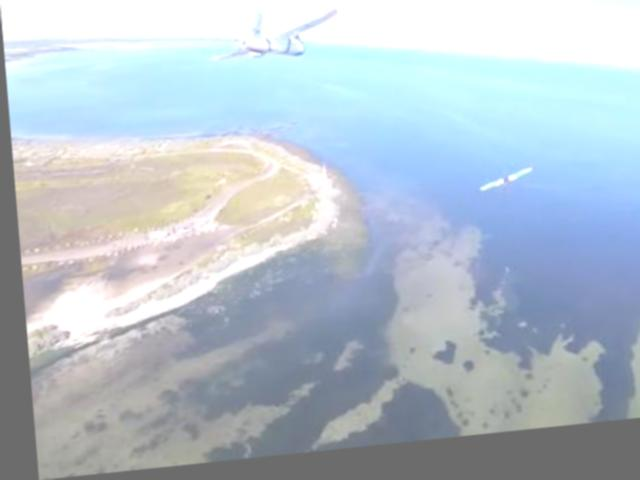uav: (204, 14, 341, 71), (474, 172, 534, 205)
